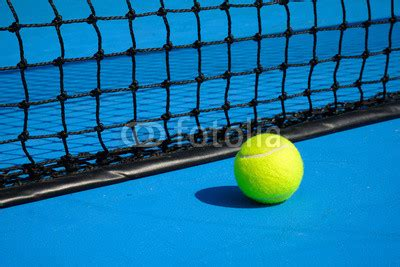tennis_ball: (235, 132, 304, 205)
